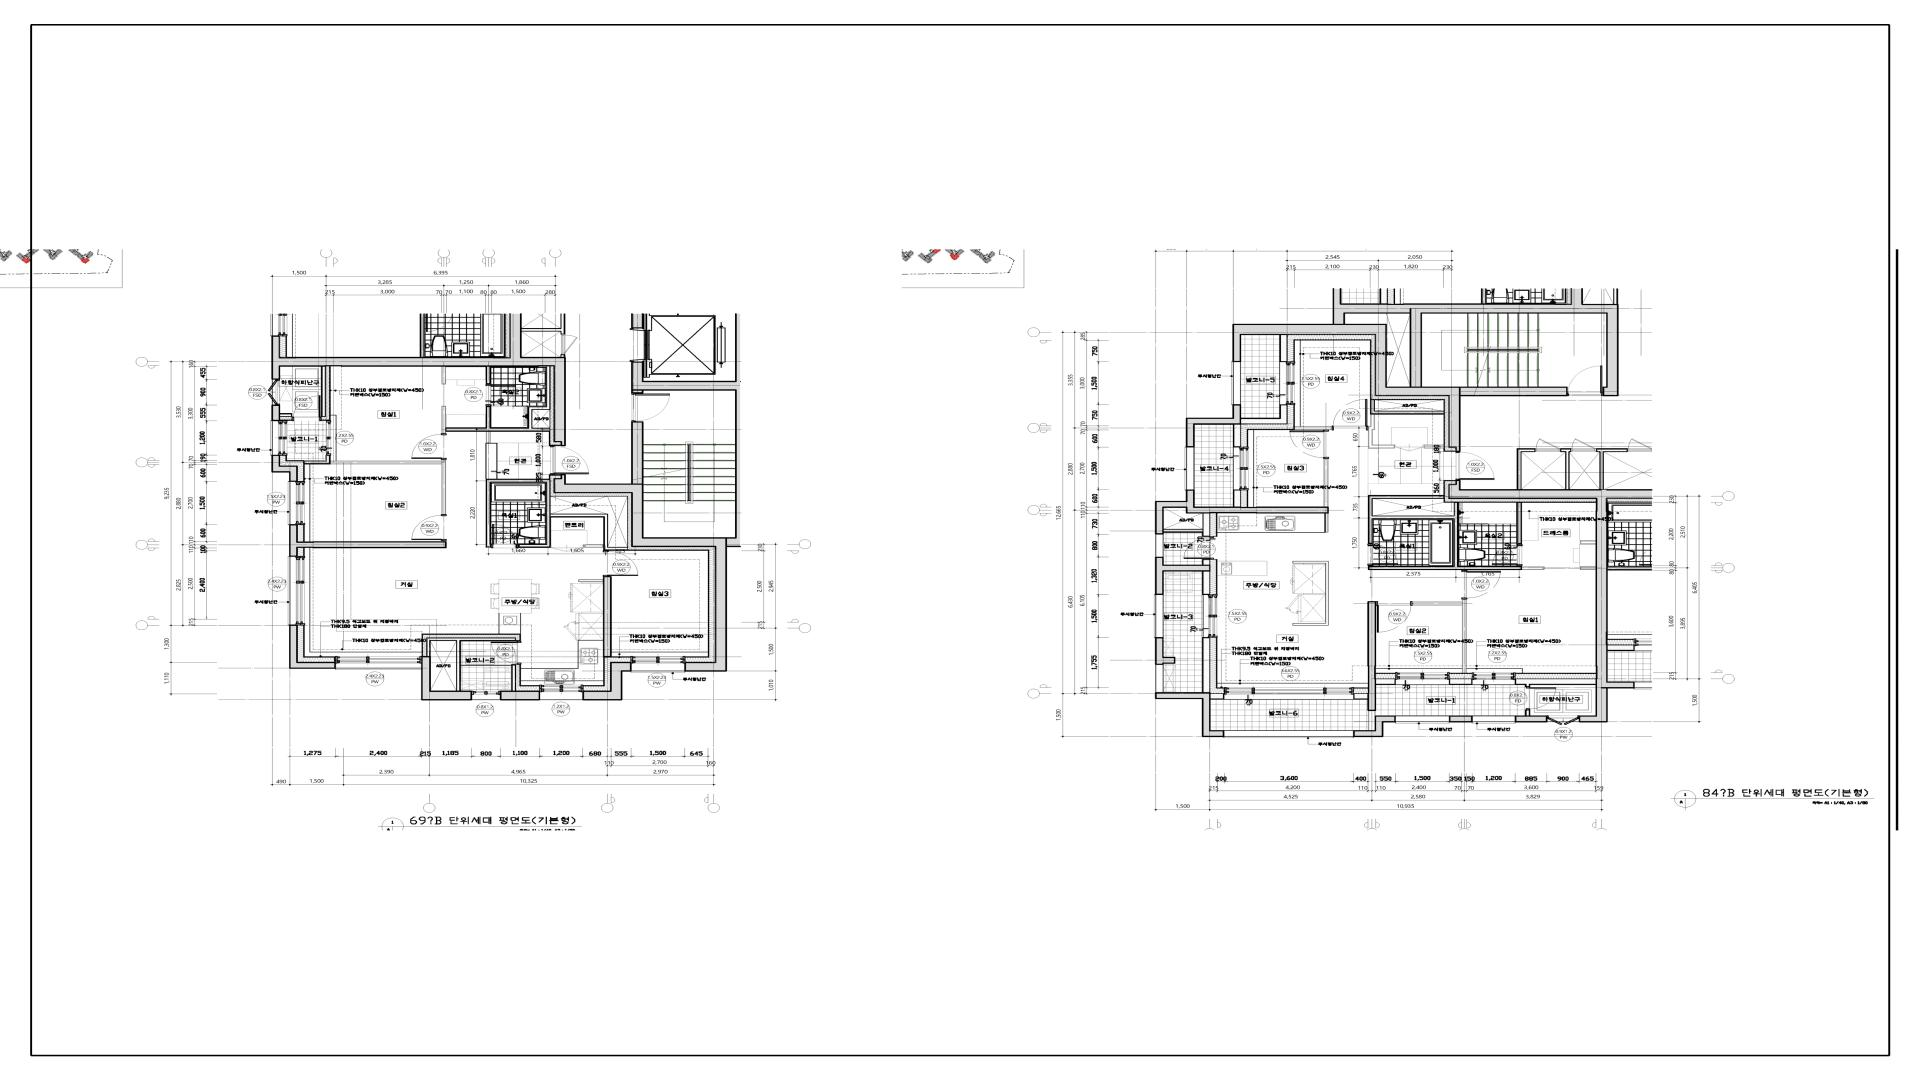door: (1461, 570, 1502, 599), (1376, 601, 1413, 633), (1289, 430, 1329, 459), (1332, 399, 1368, 431), (1455, 452, 1495, 480), (631, 393, 671, 421), (550, 446, 589, 474), (410, 514, 447, 541), (411, 433, 447, 460), (603, 551, 639, 576), (292, 395, 321, 421), (1525, 687, 1557, 710), (491, 641, 522, 664), (1367, 544, 1399, 566), (1183, 537, 1214, 559), (1492, 544, 1523, 566), (485, 385, 516, 406), (491, 524, 518, 548), (551, 545, 583, 552)
wall: (1232, 303, 1619, 452), (553, 422, 727, 672), (1448, 480, 1608, 723), (272, 357, 566, 446), (1368, 495, 1545, 570), (486, 479, 628, 551), (442, 366, 551, 443), (304, 455, 446, 514), (1155, 490, 1329, 534), (1354, 601, 1395, 730), (289, 525, 447, 556), (426, 638, 516, 691), (1413, 599, 1467, 673), (1368, 399, 1444, 448), (1155, 692, 1223, 737), (578, 576, 612, 657), (1293, 561, 1329, 626), (1186, 405, 1241, 447), (422, 656, 472, 701), (1155, 557, 1211, 594), (289, 625, 335, 669), (584, 662, 631, 701), (1164, 514, 1210, 537), (1241, 405, 1288, 425), (1354, 716, 1395, 737), (1516, 678, 1596, 687), (271, 455, 298, 481), (1155, 638, 1175, 665), (1202, 638, 1210, 692), (500, 691, 540, 700), (321, 367, 326, 417), (1279, 335, 1288, 362), (1516, 716, 1547, 723), (1517, 503, 1522, 544), (1324, 459, 1328, 507), (1202, 572, 1210, 594), (1233, 425, 1241, 447), (1450, 716, 1472, 723), (1450, 678, 1472, 685), (1295, 426, 1332, 430), (1233, 490, 1241, 507), (271, 405, 280, 420), (511, 664, 516, 691), (1211, 693, 1224, 700), (486, 366, 491, 384), (442, 367, 446, 384), (1424, 445, 1444, 448), (1580, 541, 1596, 544), (280, 413, 292, 417), (1580, 567, 1596, 570), (1202, 559, 1210, 565), (1326, 514, 1328, 532), (1525, 710, 1530, 716)
window: (1224, 687, 1354, 700), (335, 656, 422, 670), (288, 556, 305, 625), (1223, 730, 1354, 738), (631, 656, 685, 672), (288, 481, 305, 525), (1395, 672, 1450, 685), (1202, 595, 1218, 638), (540, 685, 583, 701), (1233, 447, 1249, 490), (1279, 362, 1295, 404), (270, 421, 287, 455), (1472, 673, 1516, 685), (1395, 715, 1450, 723), (1231, 361, 1241, 405), (1185, 447, 1195, 491), (1154, 594, 1164, 638), (321, 421, 331, 455), (267, 379, 280, 405), (1547, 715, 1579, 725), (1472, 716, 1516, 723), (472, 691, 500, 700), (1155, 665, 1163, 692), (1155, 534, 1164, 557)
